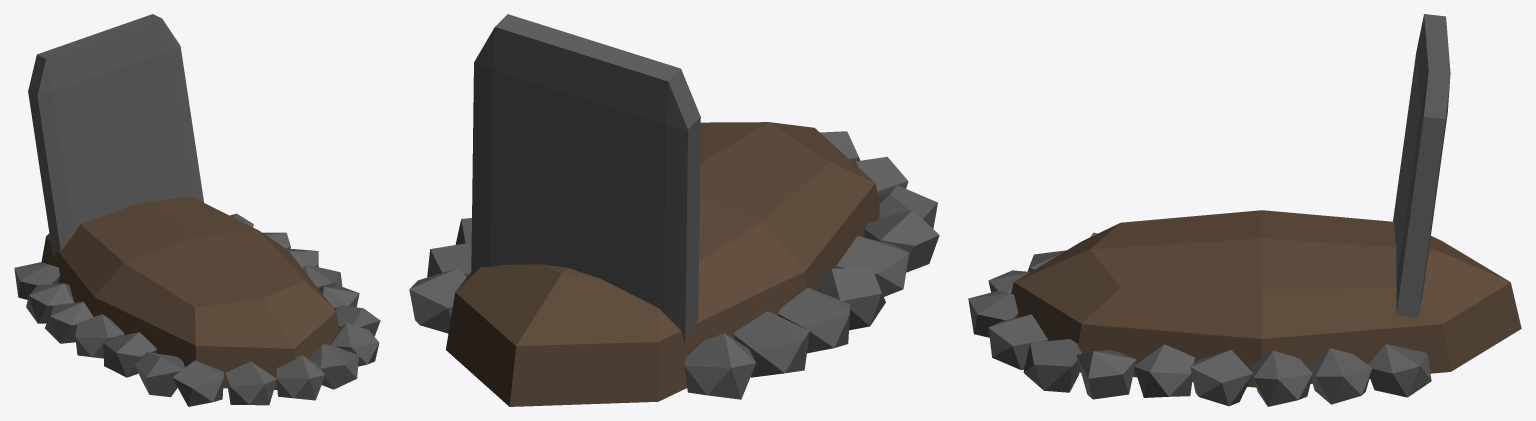
File: grave.fbx
3 renders of one model, left to right at view 1: azimuth 30°, elevation 25°; view 2: azimuth 150°, elevation 25°; view 3: azimuth 270°, elevation 25°, orthographic. The views are drawn at different scales.
Visible parts, largest first — view 1: Cube.001, Cube, Cube.012, Cube.011; view 2: Cube.001, Cube, Cube.012, Cube.011; view 3: Cube.001, Cube.012, Cube, Cube.011.
Part boxes in pixels (left/top/right/bottom): Cube.001: left=41, top=196, right=338, bottom=389; Cube: left=28, top=14, right=203, bottom=257; Cube.012: left=14, top=213, right=380, bottom=406; Cube.011: left=276, top=355, right=325, bottom=400; Cube.001: left=446, top=122, right=879, bottom=406; Cube: left=471, top=14, right=700, bottom=345; Cube.012: left=409, top=156, right=939, bottom=399; Cube.011: left=820, top=131, right=859, bottom=161; Cube.001: left=1011, top=210, right=1521, bottom=387; Cube.012: left=988, top=232, right=1431, bottom=406; Cube: left=1393, top=14, right=1450, bottom=318; Cube.011: left=968, top=290, right=1018, bottom=337.
Bounding box in the file's own units: 329 × 290 × 487.
